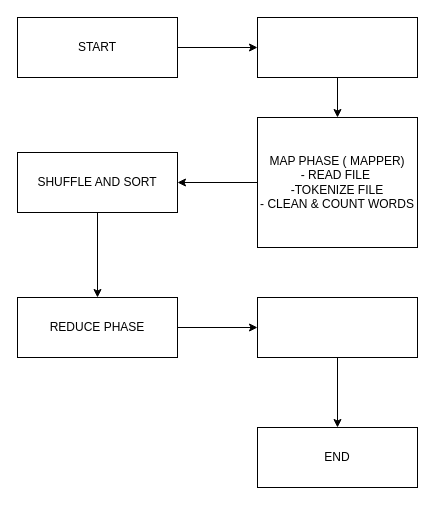
Some shapes in this 435 by 505 pixel diagram are drawn without their labels. The shapes that lost their labels are listed below. From the top down, each one's box as (x1, y1, x2, y2) in pixels, then its label:
(256, 16, 418, 78): INPUT DATA (READ FILE)
(256, 296, 418, 358): OUTPUT RESULT
